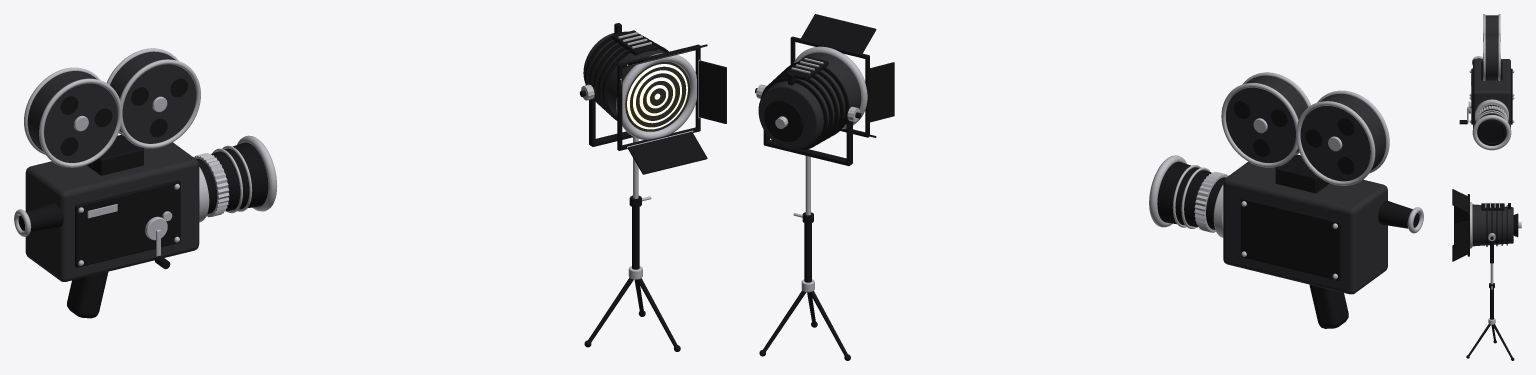
Rendered from reframe-models.glb.
3 views of the same model, side by side, from view 1: azimuth 30°, elevation 25°; view 2: azimuth 150°, elevation 25°; view 3: azimuth 270°, elevation 25° (orthographic). The views are drawn at different scales.
Parts seen in each view (by area): view 1: Body, SideDoor, ReelL, ReelR, Housing, LensBarrel, DoorBottom, Bezel, DoorRight, Grip, ReelRimL-0.15, MagazineMount (+6 smaller); view 2: Body, BackDoor, ReelL, ReelR, Housing, LensBarrel, DoorTop, DoorLeft, Grip, RearCap, ReelRimL0.15, MagazineMount (+8 smaller); view 3: Housing, Body, LensBarrel, ReelR, FrontRing, DoorRight, DoorTop, ReelL, LensMount, InnerRing, DoorLeft, TopVent (+19 smaller).
Part boxes in pixels (x1,y1,x2,y2): Body: (25,142,199,281); SideDoor: (75,180,180,267); ReelL: (27,71,117,162); ReelR: (110,51,196,143); Housing: (583,33,690,131); LensBarrel: (196,142,268,213); DoorBottom: (628,131,707,174); Bezel: (616,53,696,139); DoorRight: (699,60,726,123); Grip: (67,272,108,318); ReelRimL-0.15: (39,78,121,167); MagazineMount: (86,135,143,175); Body: (1223,161,1387,294); BackDoor: (1241,197,1341,280); ReelL: (1300,94,1385,181); ReelR: (1226,75,1307,162); Housing: (758,52,861,149); LensBarrel: (1157,161,1225,229); DoorTop: (801,14,876,53); DoorLeft: (870,62,894,122); Grip: (1309,284,1348,328); RearCap: (764,100,804,141); ReelRimL0.15: (1297,101,1375,185); MagazineMount: (1275,154,1329,193); Housing: (1472,204,1513,246); Body: (1473,59,1510,128); LensBarrel: (1477,105,1506,145); ReelR: (1485,34,1498,79); FrontRing: (1472,115,1511,150); DoorRight: (1454,221,1467,252); DoorTop: (1452,189,1467,212); ReelL: (1485,15,1498,34); LensMount: (1475,99,1508,121); InnerRing: (1478,120,1505,144); DoorLeft: (1454,206,1467,223); TopVent: (1481,203,1504,210).
Size of the model in its own units: 7.83 by 4.4 by 1.38.
